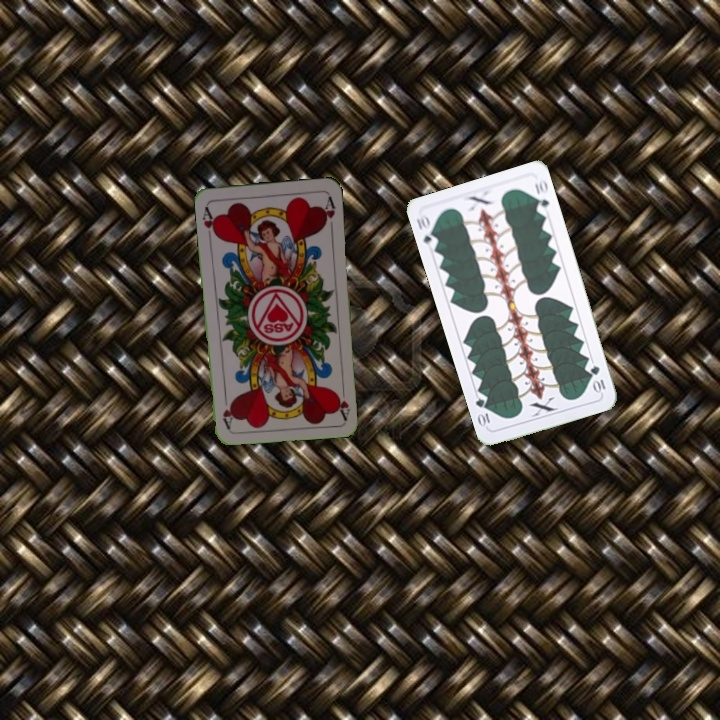G10: (412, 211, 440, 252), (586, 361, 608, 396)
HA: (198, 203, 220, 242), (333, 380, 353, 421)
